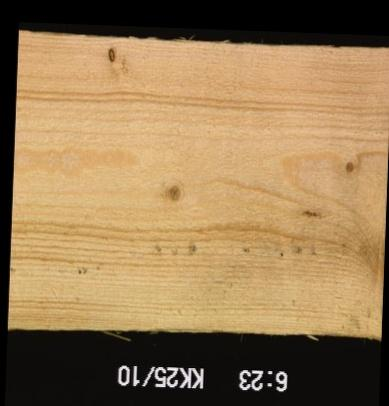dry_knot: (104, 43, 116, 66)
sound_knot: (161, 181, 183, 205), (340, 157, 356, 176)
